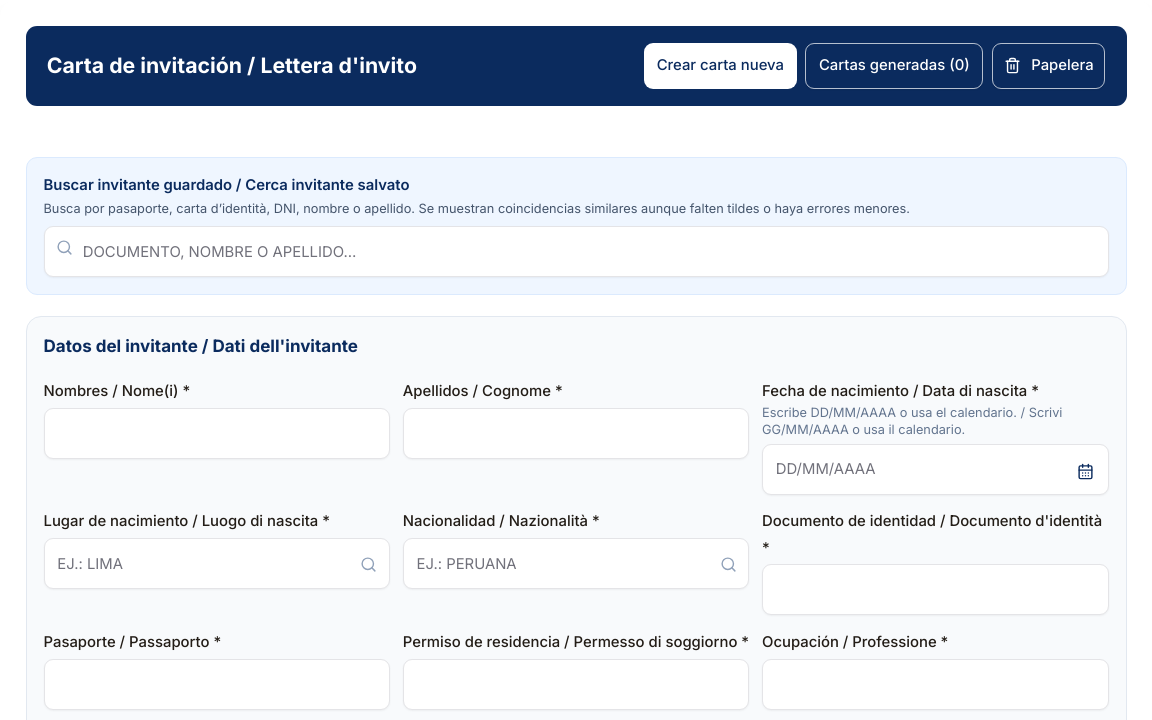
Test: InvitationLetterWorkspace › muestra una pestaña de papelera y permite restaurar una carta eliminada
Later steps or results of the test are not shown.
What coordinates should you click on to do the following:
click the tab "Papelera"
I would click on:
 (1049, 66)
Its box is [992, 42, 1105, 89].
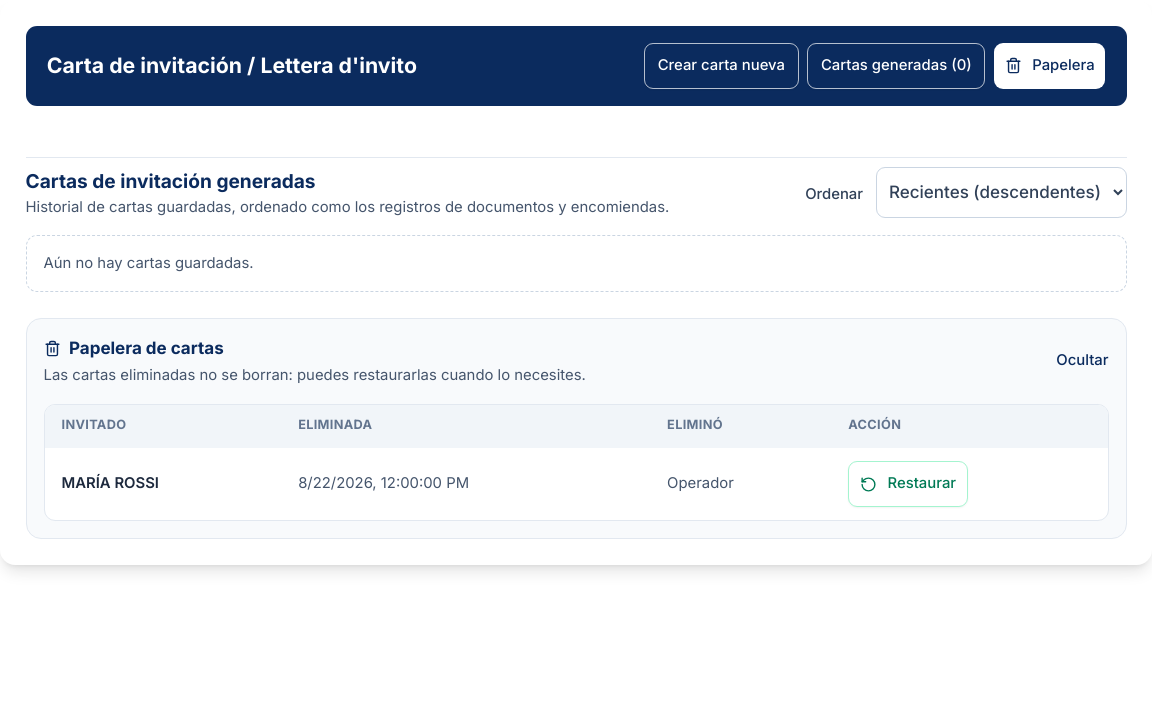
Expected: the text "Papelera de cartas" is shown, [44, 338, 224, 358]
Expected: the text "MARÍA ROSSI" is shown, [44, 448, 281, 520]
